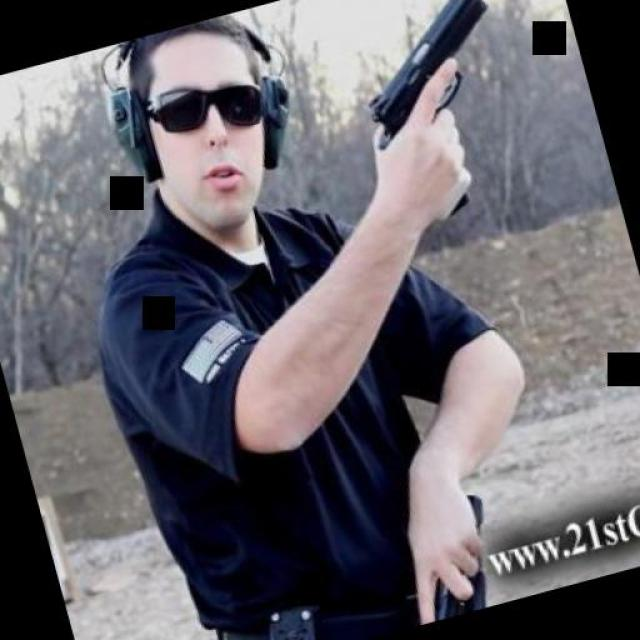gun: (330, 0, 541, 232)
